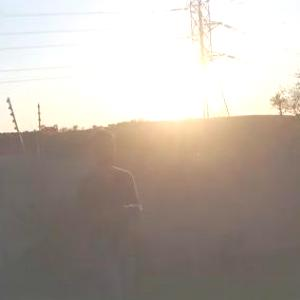follow: (71, 124, 147, 299)
